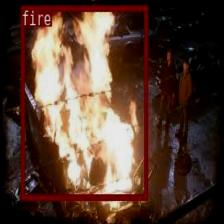fire: (21, 4, 147, 200)
